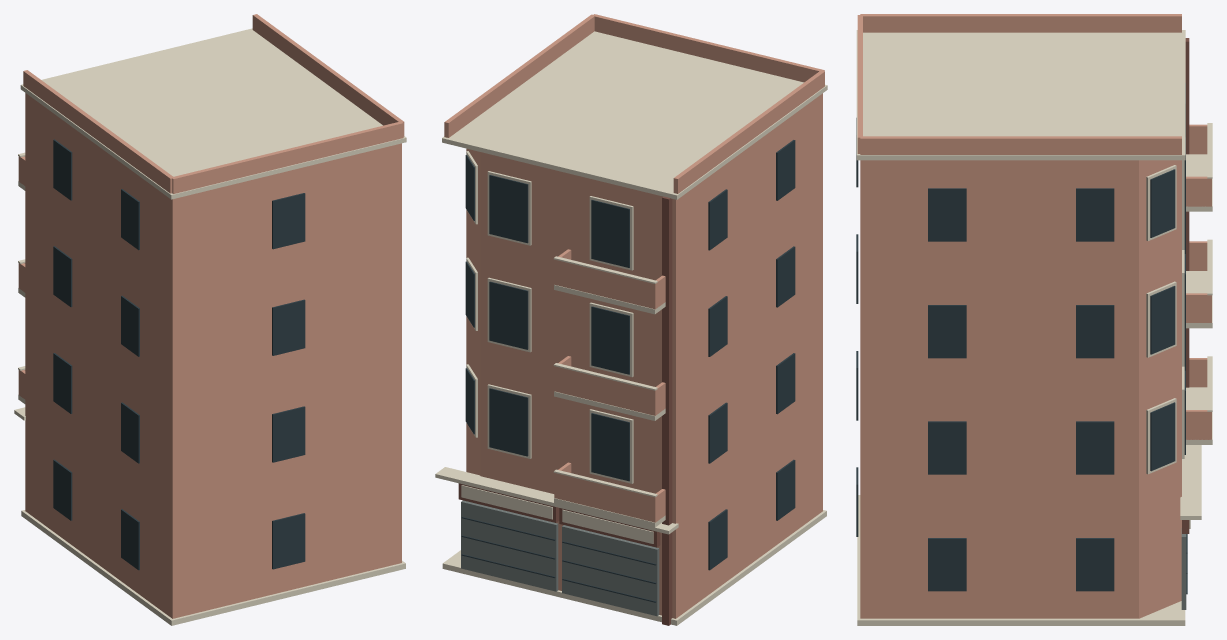
The model's file is KOL_T3_MIX_01.fbx.
The picture shows the model from 3 angles, left to right: view 1: azimuth 30°, elevation 25°; view 2: azimuth 150°, elevation 25°; view 3: azimuth 270°, elevation 25°; orthographic projection. The views are drawn at different scales.
Visible parts, largest first — view 1: KOL_T3_MIX_01__Body, KOL_T3_MIX_01__Trim, KOL_T3_MIX_01__Dark; view 2: KOL_T3_MIX_01__Body, KOL_T3_MIX_01__Trim, KOL_T3_MIX_01__Dark, KOL_T3_MIX_01__Roof, KOL_T3_MIX_01__Accent; view 3: KOL_T3_MIX_01__Body, KOL_T3_MIX_01__Trim, KOL_T3_MIX_01__Dark, KOL_T3_MIX_01__Accent.
Part boxes in pixels (box(x1,y1,x2,y2)): KOL_T3_MIX_01__Body: box(18, 14, 404, 618); KOL_T3_MIX_01__Trim: box(14, 28, 406, 625); KOL_T3_MIX_01__Dark: box(53, 139, 305, 570); KOL_T3_MIX_01__Body: box(444, 14, 824, 618); KOL_T3_MIX_01__Trim: box(435, 31, 827, 625); KOL_T3_MIX_01__Dark: box(461, 140, 795, 602); KOL_T3_MIX_01__Roof: box(461, 500, 659, 616); KOL_T3_MIX_01__Accent: box(458, 196, 672, 625); KOL_T3_MIX_01__Body: box(857, 14, 1211, 618); KOL_T3_MIX_01__Trim: box(856, 30, 1212, 625); KOL_T3_MIX_01__Dark: box(856, 83, 1187, 594); KOL_T3_MIX_01__Accent: box(1182, 38, 1189, 533).
Size of the model in its own units: 27.74 by 50.15 by 33.22.
